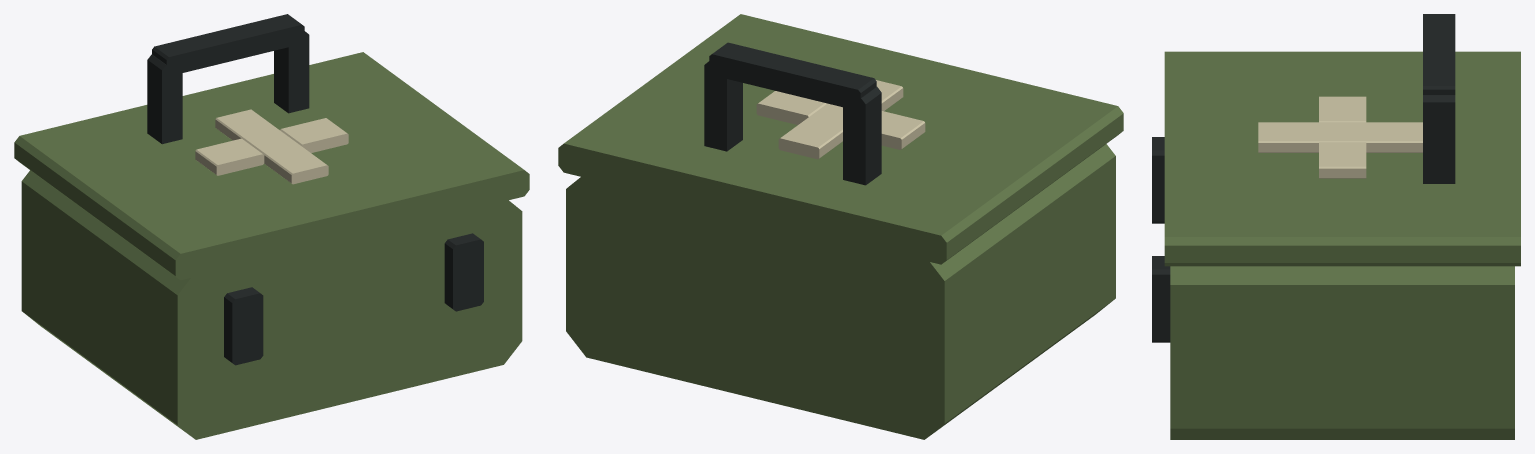
File: HerbalMedicine.gltf
3 renders of one model, left to right at view 1: azimuth 30°, elevation 25°; view 2: azimuth 150°, elevation 25°; view 3: azimuth 270°, elevation 25°, orthographic. The views are drawn at different scales.
Parts seen in each view (by area): view 1: HerbalMedicine; view 2: HerbalMedicine; view 3: HerbalMedicine.
Boxes of the visible parts, left/top/right/bottom form: HerbalMedicine: left=14, top=14, right=529, bottom=439; HerbalMedicine: left=558, top=14, right=1123, bottom=439; HerbalMedicine: left=1152, top=14, right=1520, bottom=439.
Bounding box in the file's own units: 0.308 × 0.231 × 0.2515.
